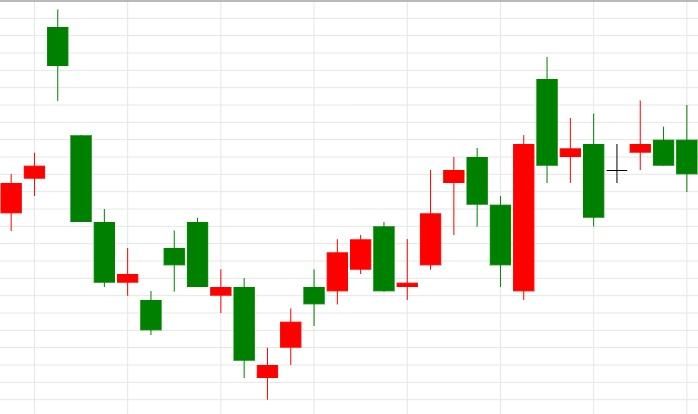bearish_engulfing_fall: (512, 58, 605, 300)
bullish_engulfing_rise: (442, 134, 535, 300)
